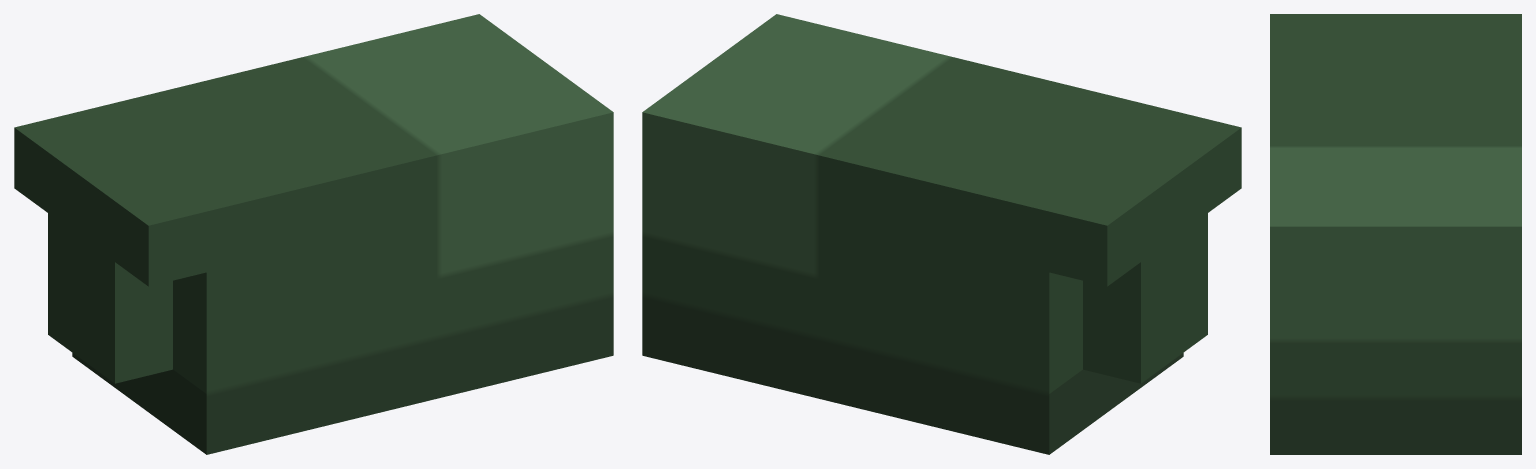
File: Shoulder010.fbx
3 views of the same model, side by side, from view 1: azimuth 30°, elevation 25°; view 2: azimuth 150°, elevation 25°; view 3: azimuth 270°, elevation 25° (orthographic). The views are drawn at different scales.
Visible parts, largest first — view 1: Shoulder010; view 2: Shoulder010; view 3: Shoulder010.
Boxes of the visible parts, box(x1,y1,x2,y2) form: Shoulder010: box(14, 14, 613, 454); Shoulder010: box(642, 14, 1241, 454); Shoulder010: box(1270, 14, 1521, 454).
Size of the model in its own units: 8 by 4 by 4.
